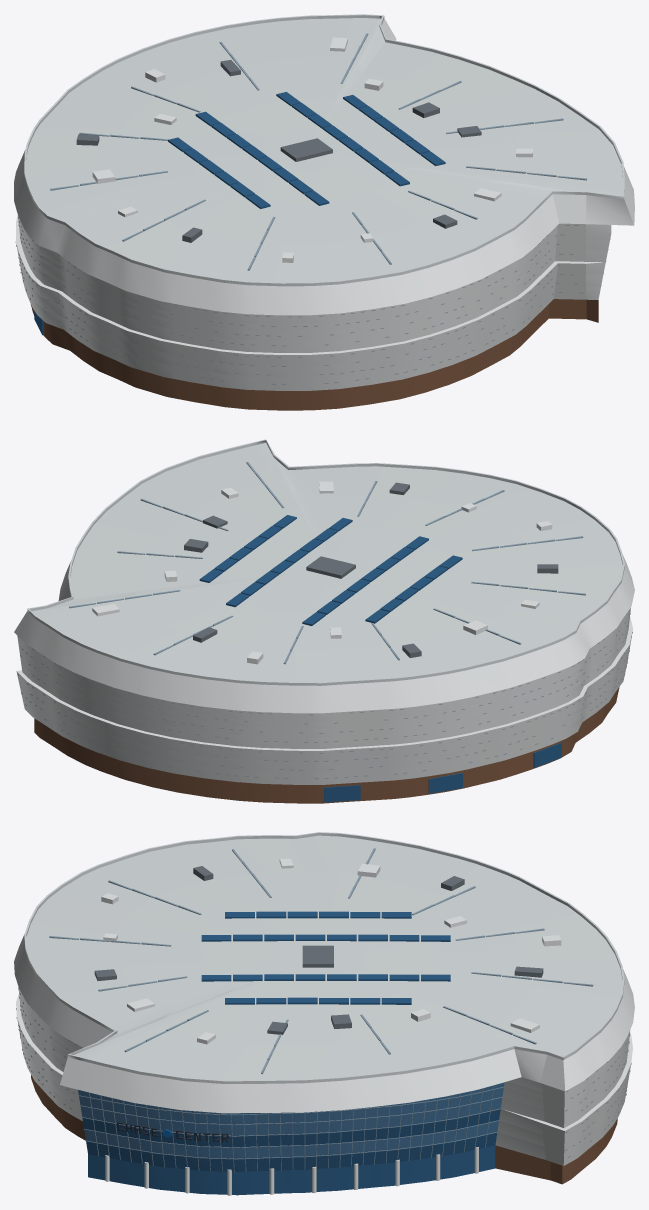
File: chase-center-near.glb
The picture shows the model from 3 angles, top to bottom: view 1: azimuth 30°, elevation 25°; view 2: azimuth 150°, elevation 25°; view 3: azimuth 270°, elevation 25°; orthographic projection. The views are drawn at different scales.
Parts seen in each view (by area): view 1: chase-center-0-roof, chase-center-0-skin, chase-center-0-base, chase-center-0-glow, chase-center-0-skin_dark, chase-center-0-steel; view 2: chase-center-0-roof, chase-center-0-skin, chase-center-0-base, chase-center-0-glow, chase-center-0-skin_dark, chase-center-0-steel; view 3: chase-center-0-roof, chase-center-0-skin, chase-center-0-glow, chase-center-0-glass, chase-center-0-steel, chase-center-0-base, chase-center-0-skin_dark, chase-center-0-sign.
Part boxes in pixels (<box>): chase-center-0-roof: <box>24,14,624,286</box>; chase-center-0-skin: <box>14,18,634,390</box>; chase-center-0-base: <box>30,299,598,410</box>; chase-center-0-glow: <box>34,92,445,335</box>; chase-center-0-skin_dark: <box>15,60,583,384</box>; chase-center-0-steel: <box>50,33,610,285</box>; chase-center-0-roof: <box>27,439,624,685</box>; chase-center-0-skin: <box>14,481,634,784</box>; chase-center-0-base: <box>34,687,619,803</box>; chase-center-0-glow: <box>199,515,561,802</box>; chase-center-0-skin_dark: <box>17,482,632,779</box>; chase-center-0-steel: <box>69,462,585,664</box>; chase-center-0-roof: <box>24,832,624,1083</box>; chase-center-0-skin: <box>14,858,634,1195</box>; chase-center-0-glow: <box>82,911,500,1195</box>; chase-center-0-glass: <box>78,1082,504,1158</box>; chase-center-0-steel: <box>49,848,593,1172</box>; chase-center-0-base: <box>31,1075,617,1184</box>; chase-center-0-skin_dark: <box>16,866,631,1159</box>; chase-center-0-sign: <box>117,1121,228,1141</box>.
Size of the model in its own units: 156 by 38.1 by 159.
